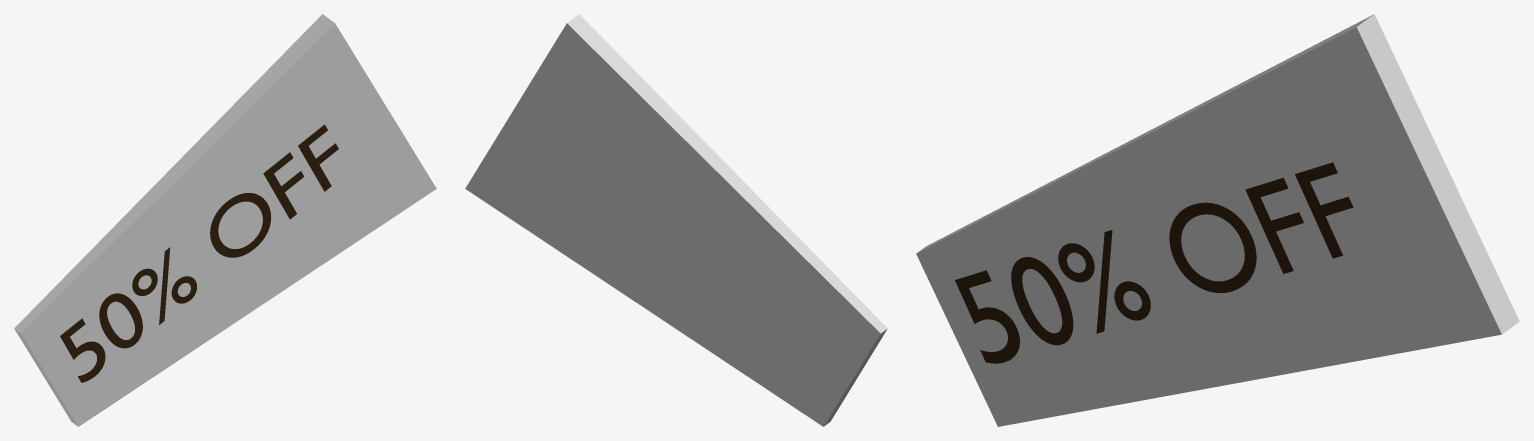
File: mint_50off.gltf
3 views of the same model, side by side, from view 1: azimuth 30°, elevation 25°; view 2: azimuth 150°, elevation 25°; view 3: azimuth 330°, elevation 25° (orthographic). The views are drawn at different scales.
Visible parts, largest first — view 1: Cube.012, Text.009; view 2: Cube.012; view 3: Cube.012, Text.009.
Boxes of the visible parts, box(x1,y1,x2,y2) form: Cube.012: box(14, 14, 436, 426); Text.009: box(60, 124, 338, 382); Cube.012: box(465, 14, 887, 426); Cube.012: box(916, 14, 1519, 426); Text.009: box(955, 162, 1353, 363).
Bounding box in the file's own units: 0.455 × 0.3621 × 0.0298.
